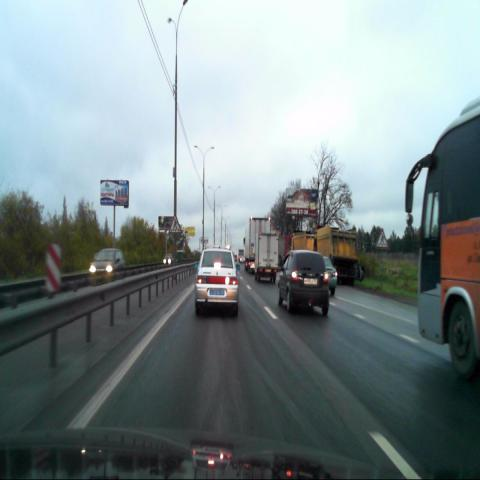1_22: (375, 228, 389, 250), (169, 213, 182, 234)
